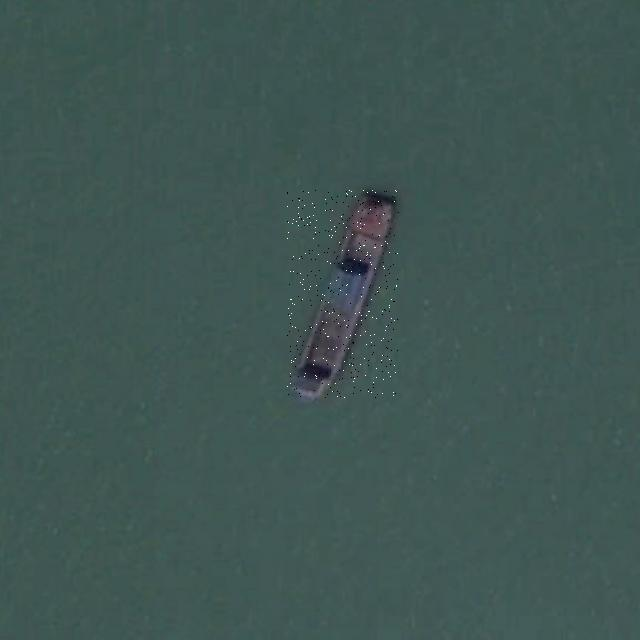boat: (287, 190, 399, 398)
